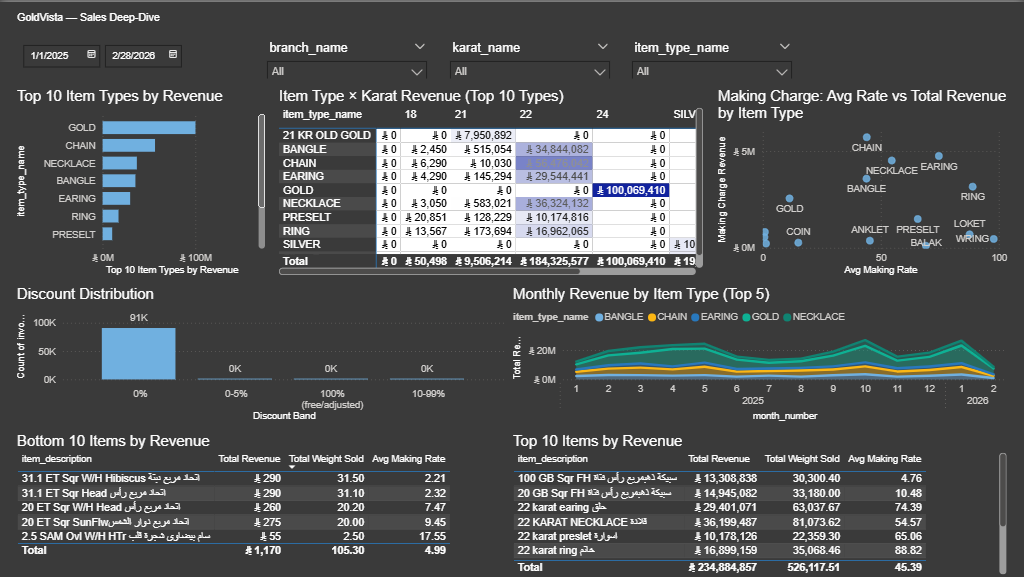

The dashboard page shown, as its layout file describes it:
{"tool":"powerbi","page":{"name":"Sales Deep-Dive","canvas":[1280,720],"ordinal":2},"visuals":[{"type":"textbox","box":[16,6,600,32],"z":0},{"type":"slicer","fields":{"Values":["public dim_date.date_key"]},"box":[16,44,300,52],"z":1000},{"type":"slicer","fields":{"Values":["public dim_branch.branch_name"]},"box":[324,44,220,52],"z":2000},{"type":"slicer","fields":{"Values":["public dim_karat.karat_name"]},"box":[552,44,220,52],"z":3000},{"type":"slicer","fields":{"Values":["public dim_item_type.item_type_name"]},"box":[780,44,220,52],"z":4000},{"type":"clusteredBarChart","title":"Top 10 Item Types by Revenue","fields":{"Category":["public dim_item_type.item_type_name"],"Y":["_Measures.Total Revenue"]},"box":[16,106,320,240],"z":5000},{"type":"pivotTable","title":"Item Type × Karat Revenue (Top 10 Types)","fields":{"Columns":["public dim_karat.karat_name"],"Rows":["public dim_item_type.item_type_name"],"Values":["_Measures.Total Revenue"]},"box":[344,106,540,240],"z":6000},{"type":"scatterChart","title":"Making Charge: Avg Rate vs Total Revenue by Item Type","fields":{"Category":["public dim_item_type.item_type_name"],"X":["_Measures.Avg Making Rate"],"Y":["_Measures.Making Charge Revenue"]},"box":[892,106,372,240],"z":7000},{"type":"clusteredColumnChart","title":"Discount Distribution","fields":{"Category":["public fact_sales.Discount Band"],"Y":["CountNonNull(public fact_sales.invoice_id)"]},"box":[16.5,353.7,620.3,176],"z":8000},{"type":"tableEx","title":"Top 10 Items by Revenue","fields":{"Values":["public dim_item.item_description","_Measures.Total Revenue","_Measures.Total Weight Sold","_Measures.Avg Making Rate"]},"box":[636.7,538,626.8,182.6],"z":9000},{"type":"tableEx","title":"Bottom 10 Items by Revenue","fields":{"Values":["public dim_item.item_description","_Measures.Total Revenue","_Measures.Total Weight Sold","_Measures.Avg Making Rate"]},"box":[16.1,538,619.6,172.6],"z":10000},{"type":"stackedAreaChart","title":"Monthly Revenue by Item Type (Top 5)","fields":{"Category":["public dim_date.year","public dim_date.month_number"],"Series":["public dim_item_type.item_type_name"],"Y":["_Measures.Total Revenue"]},"box":[636.7,353.7,626.8,176],"z":11000}]}

Visuals, with their boxes in screenshot pixels (x1, y1, x2, y2), scaled from the page's 1280x720 canvas onto the 1024x577 screenshot:
textbox: [13, 5, 493, 30]
slicer - public dim_date.date_key: [13, 35, 253, 77]
slicer - public dim_branch.branch_name: [259, 35, 435, 77]
slicer - public dim_karat.karat_name: [442, 35, 618, 77]
slicer - public dim_item_type.item_type_name: [624, 35, 800, 77]
"Top 10 Item Types by Revenue" clusteredBarChart: [13, 85, 269, 277]
"Item Type × Karat Revenue (Top 10 Types)" pivotTable: [275, 85, 707, 277]
"Making Charge: Avg Rate vs Total Revenue by Item Type" scatterChart: [714, 85, 1011, 277]
"Discount Distribution" clusteredColumnChart: [13, 283, 509, 424]
"Top 10 Items by Revenue" tableEx: [509, 431, 1011, 576]
"Bottom 10 Items by Revenue" tableEx: [13, 431, 509, 569]
"Monthly Revenue by Item Type (Top 5)" stackedAreaChart: [509, 283, 1011, 424]
